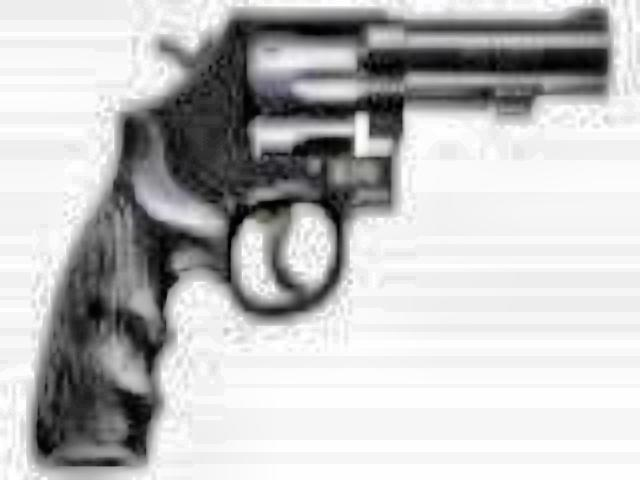pistol: (28, 0, 612, 468)
